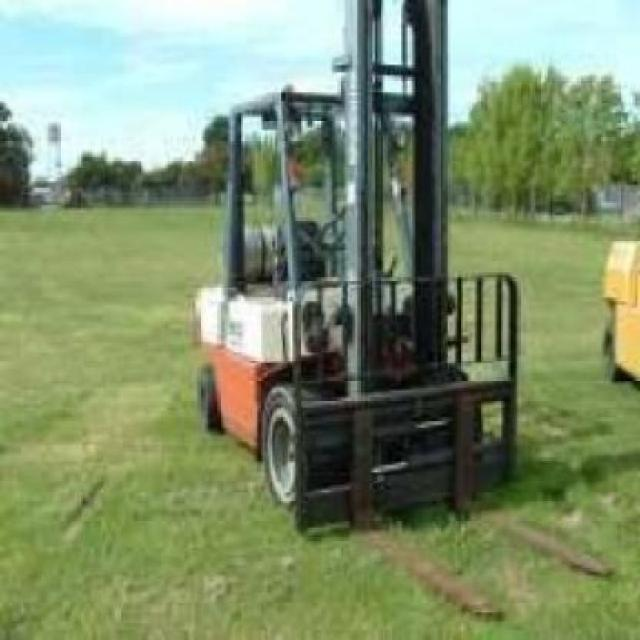forklift: (195, 0, 520, 530)
